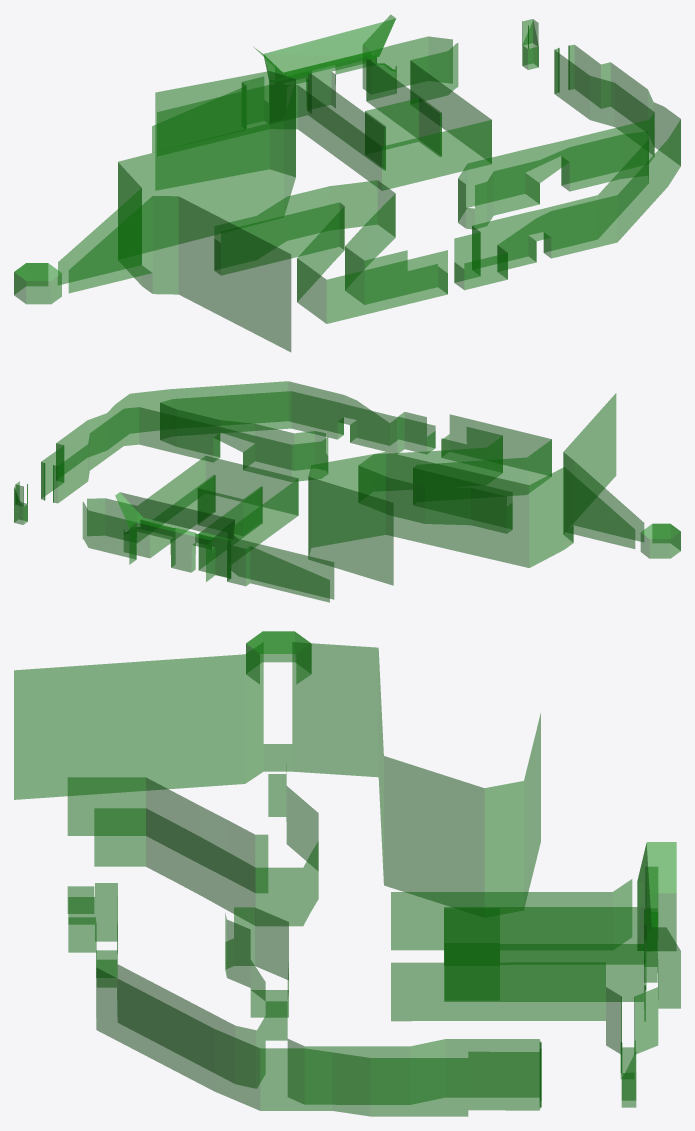
Rendered from C_wall.obj.
3 views of the same model, one above another, from view 1: azimuth 30°, elevation 25°; view 2: azimuth 150°, elevation 25°; view 3: azimuth 270°, elevation 25° (orthographic). The views are drawn at different scales.
Size of the model in its own units: 593 by 84.1 by 392.
